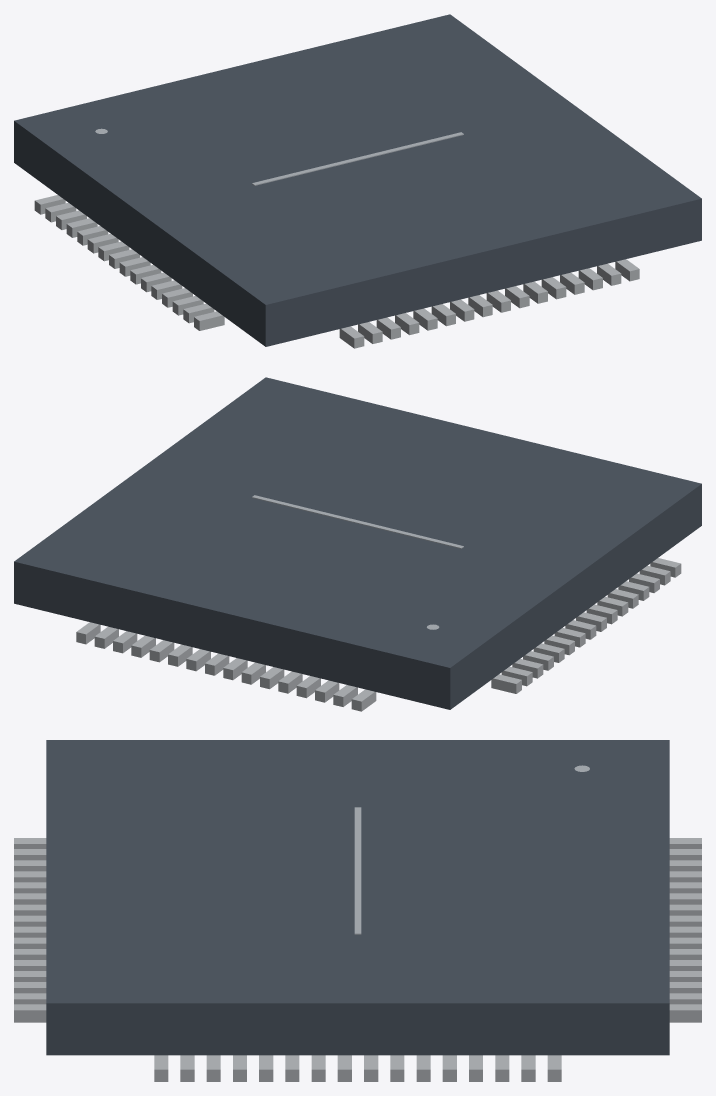
3 views of the same model, one above another, from view 1: azimuth 30°, elevation 25°; view 2: azimuth 150°, elevation 25°; view 3: azimuth 270°, elevation 25° (orthographic). The views are drawn at different scales.
Parts seen in each view (by area): view 1: U1_Mold, LaserMark; view 2: U1_Mold, LaserMark; view 3: U1_Mold, LaserMark, GullWingLead_0_16, GullWingLead_1_16.
Part boxes in pixels (<box>): U1_Mold: <box>14,14,701,346</box>; LaserMark: <box>252,132,463,185</box>; U1_Mold: <box>14,377,701,709</box>; LaserMark: <box>252,495,463,548</box>; U1_Mold: <box>46,740,669,1055</box>; LaserMark: <box>354,807,361,934</box>; GullWingLead_0_16: <box>669,1004,701,1022</box>; GullWingLead_1_16: <box>14,1004,46,1022</box>.
Bounding box in the file's own units: 0.021 × 0.00228 × 0.021.
